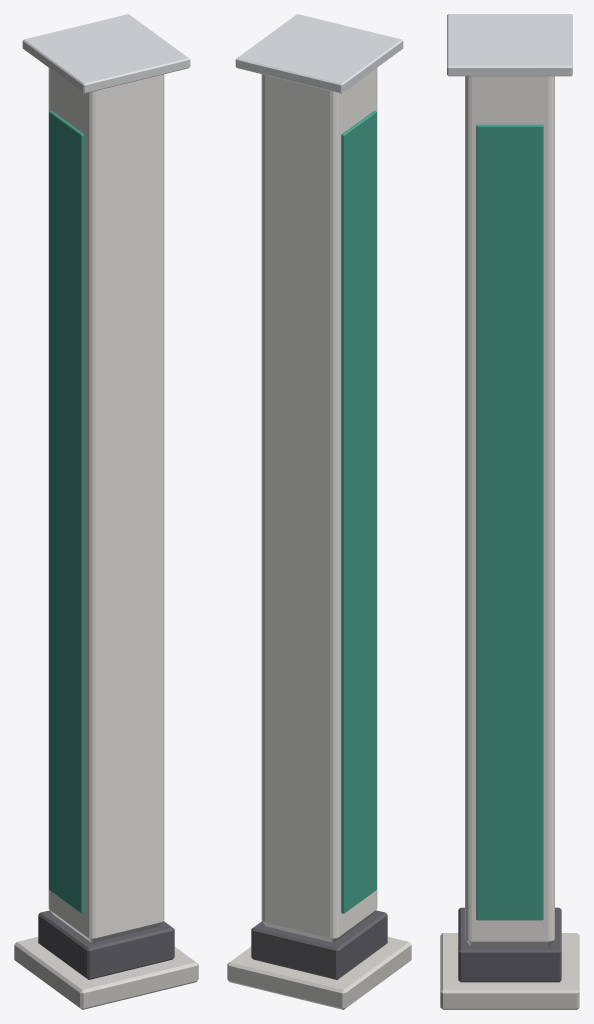
Rendered from CanopyColumn.glb.
3 renders of one model, left to right at view 1: azimuth 30°, elevation 25°; view 2: azimuth 150°, elevation 25°; view 3: azimuth 270°, elevation 25°, orthographic.
Visible parts, largest first — view 1: canopy-column; view 2: canopy-column; view 3: canopy-column.
Boxes of the visible parts, x1=… form: canopy-column: x1=14, y1=14, x2=198, y2=1009; canopy-column: x1=227, y1=14, x2=411, y2=1009; canopy-column: x1=440, y1=14, x2=579, y2=1009.
Bounding box in the file's own units: 0.62 × 4.62 × 0.62.
